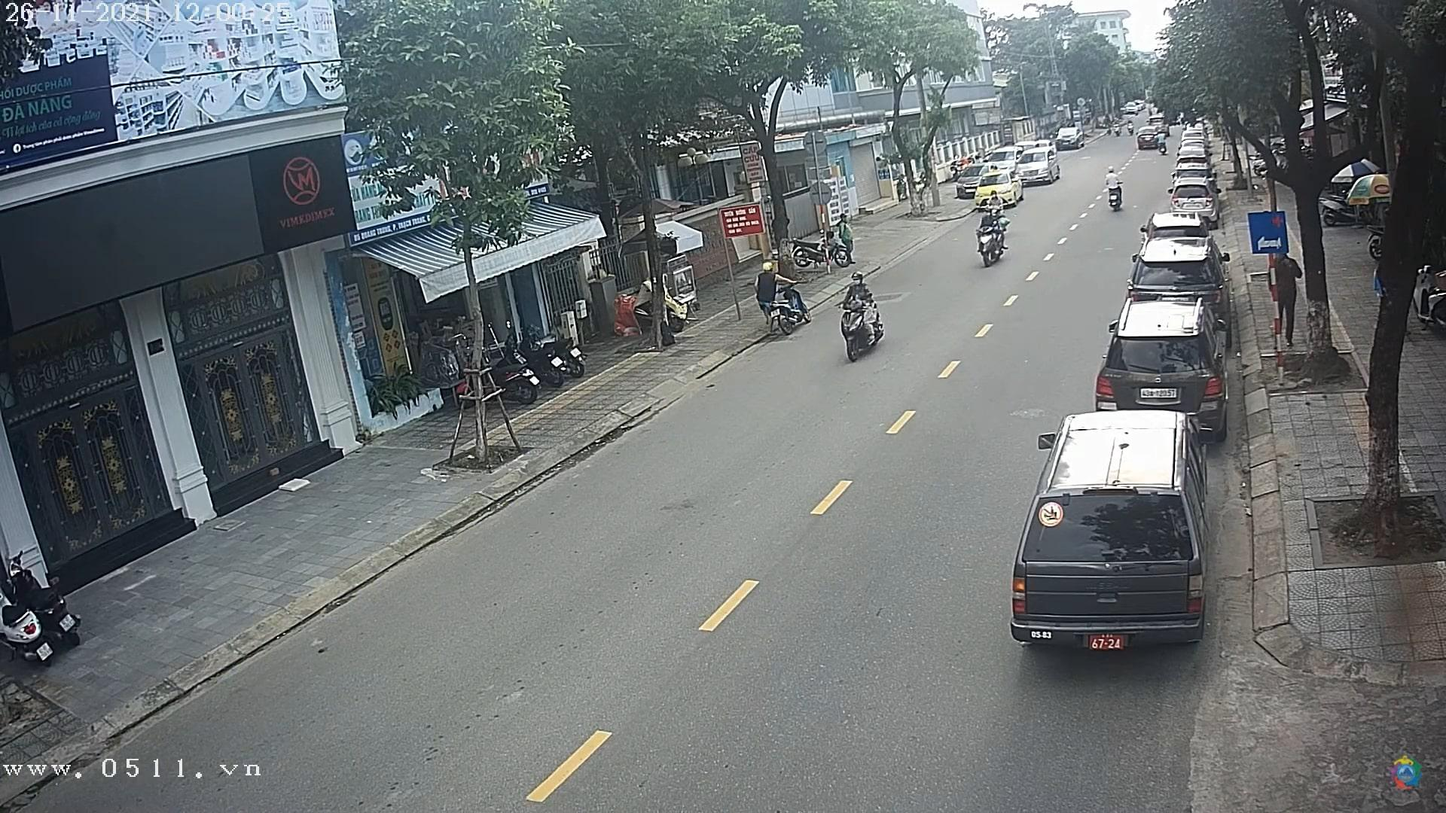car: (1014, 413, 1206, 651), (1096, 296, 1227, 427), (1133, 236, 1222, 288), (1168, 181, 1218, 214), (1057, 126, 1088, 149)
motorbike: (842, 294, 886, 370), (974, 221, 1010, 265)
